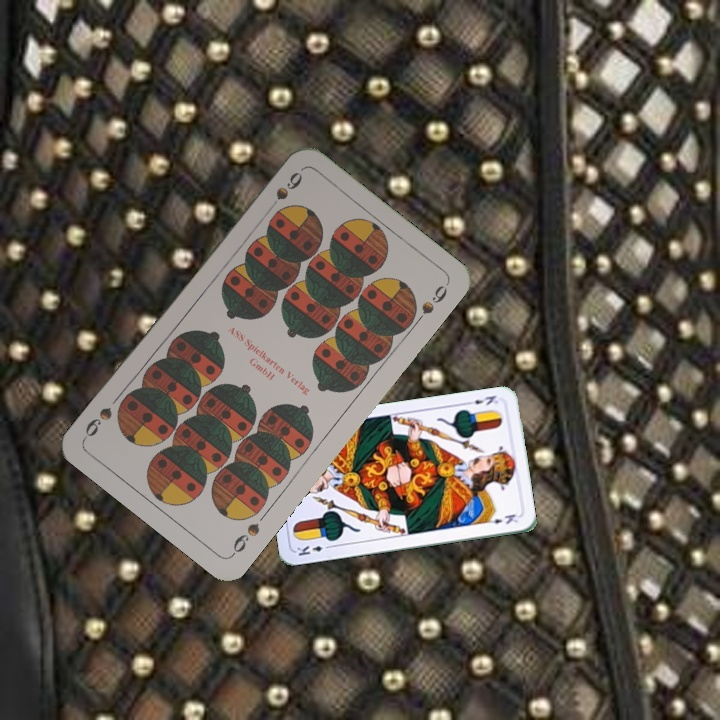EK: (293, 541, 334, 559), (462, 391, 500, 408)
S9: (262, 167, 306, 217), (227, 519, 263, 559)
